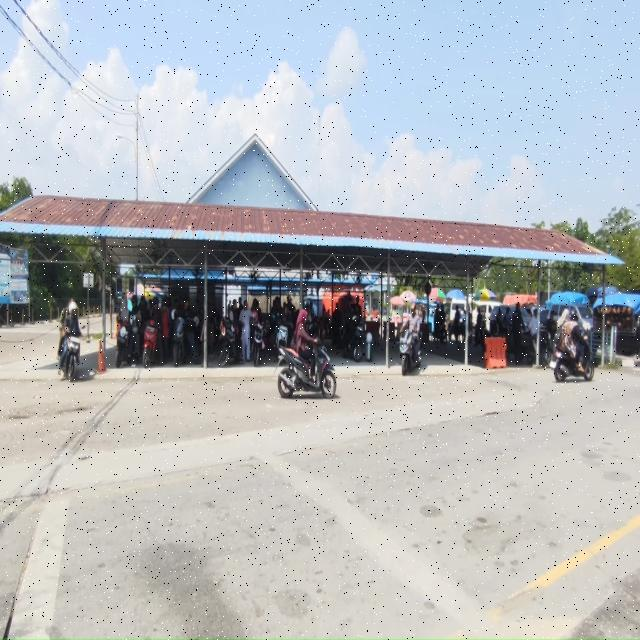Golongan II: (277, 339, 337, 399), (554, 342, 595, 382), (173, 316, 198, 367), (342, 315, 366, 363), (399, 327, 422, 376), (219, 317, 236, 367), (115, 322, 131, 368), (64, 336, 80, 382), (128, 312, 142, 364), (252, 321, 268, 366), (143, 320, 158, 368), (172, 316, 185, 367), (539, 328, 554, 368), (434, 320, 448, 344)
